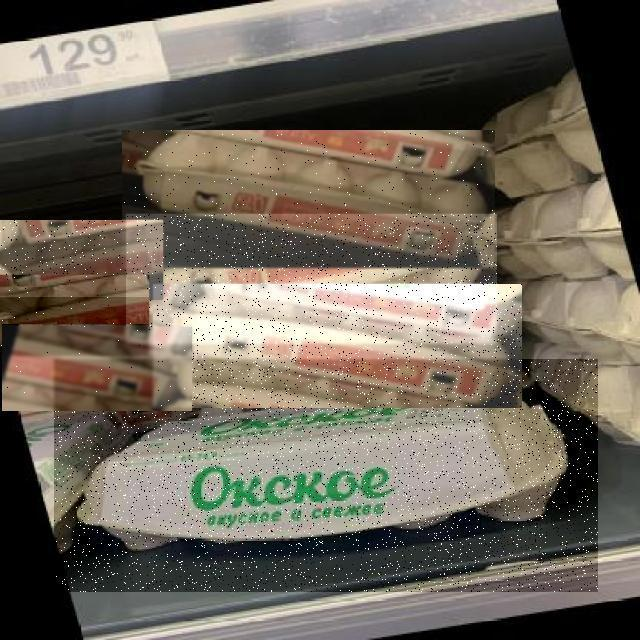Eggs: (54, 359, 598, 592), (122, 130, 495, 268), (126, 214, 497, 344), (153, 284, 522, 408), (2, 327, 192, 411), (0, 220, 163, 300), (0, 276, 149, 356)
